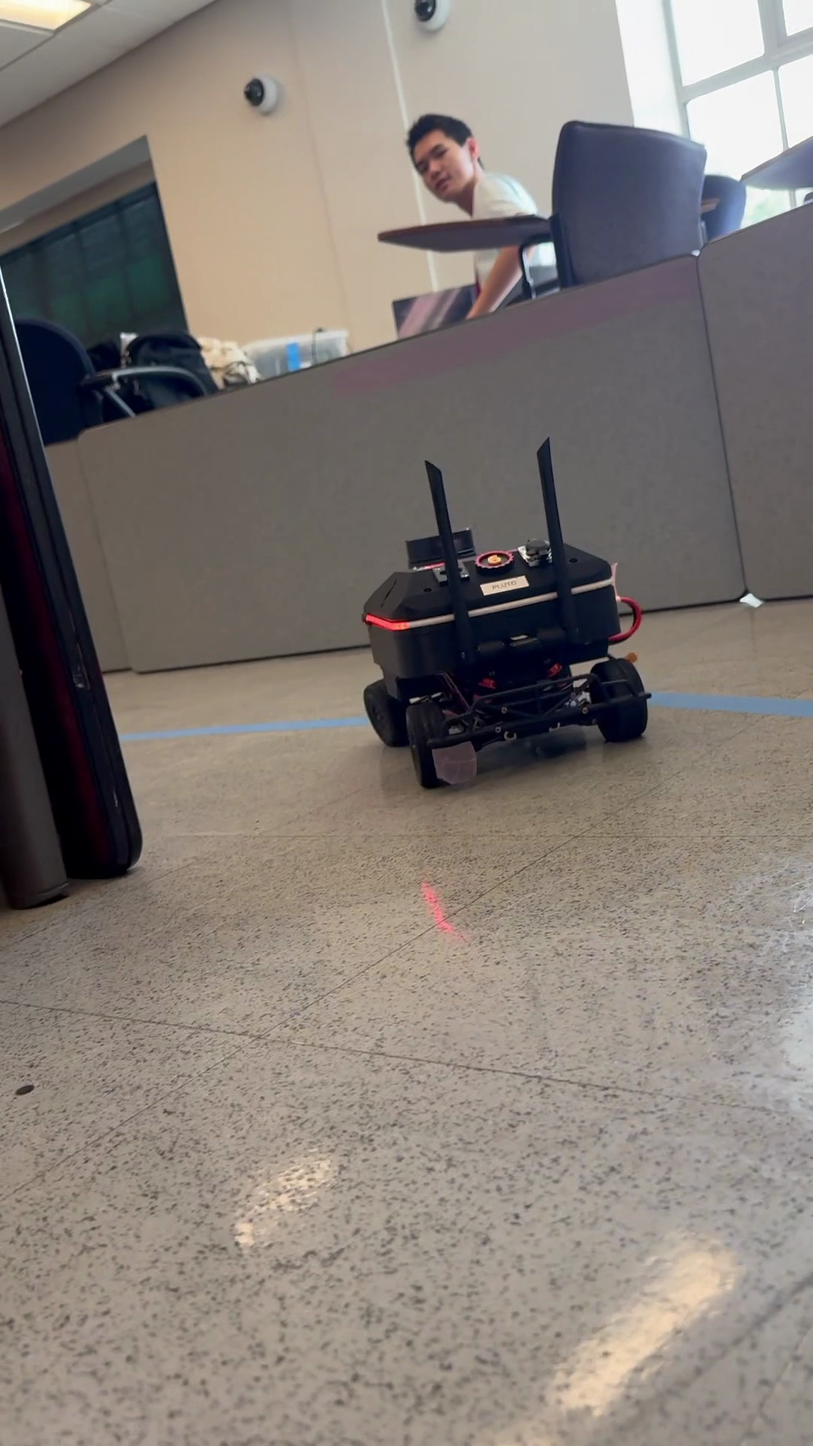racecar: (359, 444, 649, 791)
